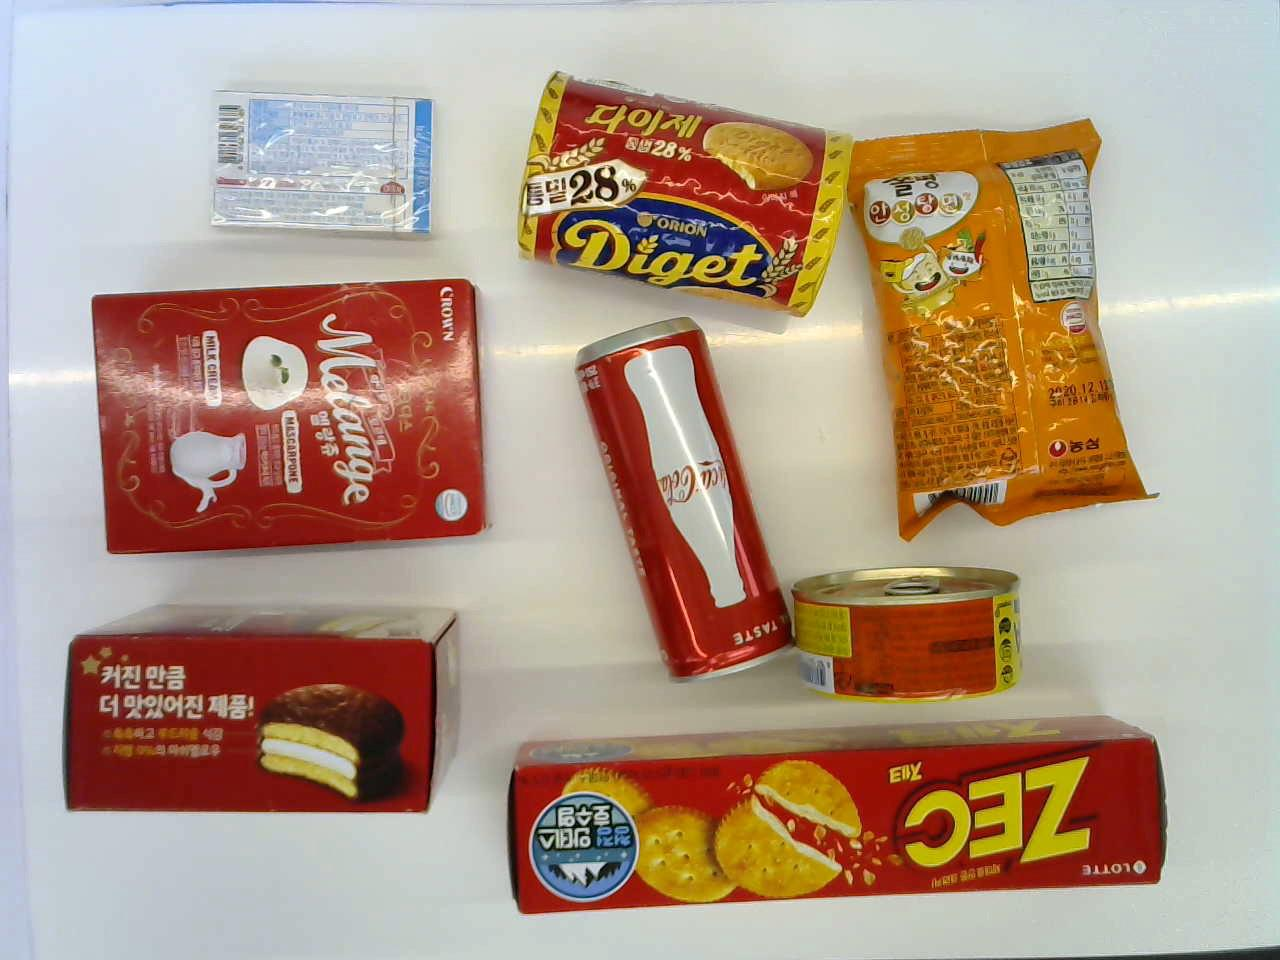ID_gum: (195, 73, 445, 251)
chocopie: (59, 588, 474, 837)
coke: (565, 310, 798, 688)
couque_white: (79, 274, 493, 551)
diget_ori: (518, 65, 858, 296)
jjolbyung_noodle: (843, 108, 1155, 536)
tuna: (790, 551, 1027, 704)
zec: (498, 717, 1164, 924)
